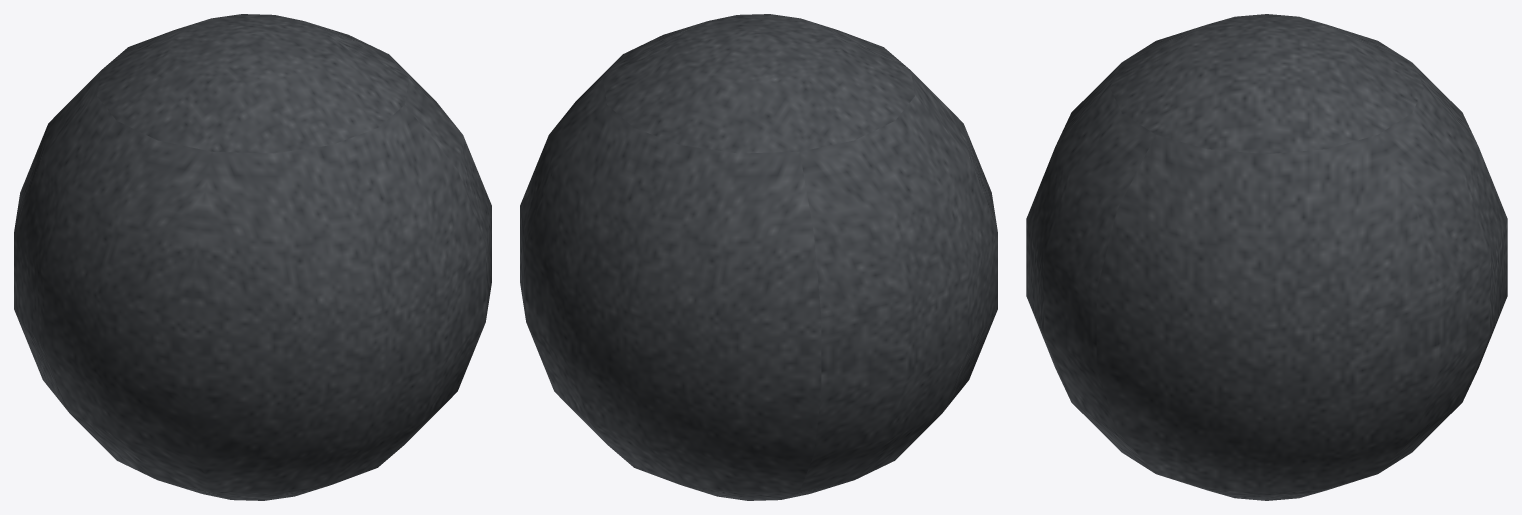
Rendered from cannonball.glb.
The picture shows the model from 3 angles, left to right: view 1: azimuth 30°, elevation 25°; view 2: azimuth 150°, elevation 25°; view 3: azimuth 270°, elevation 25°; orthographic projection.
Parts seen in each view (by area): view 1: cannonball.body; view 2: cannonball.body; view 3: cannonball.body.
Part boxes in pixels (x1,y1,x2,y2): cannonball.body: [14, 14, 491, 500]; cannonball.body: [520, 14, 997, 500]; cannonball.body: [1026, 14, 1507, 500].
Size of the model in its own units: 0.128 by 0.13 by 0.128.
1 material, 1 textured.
